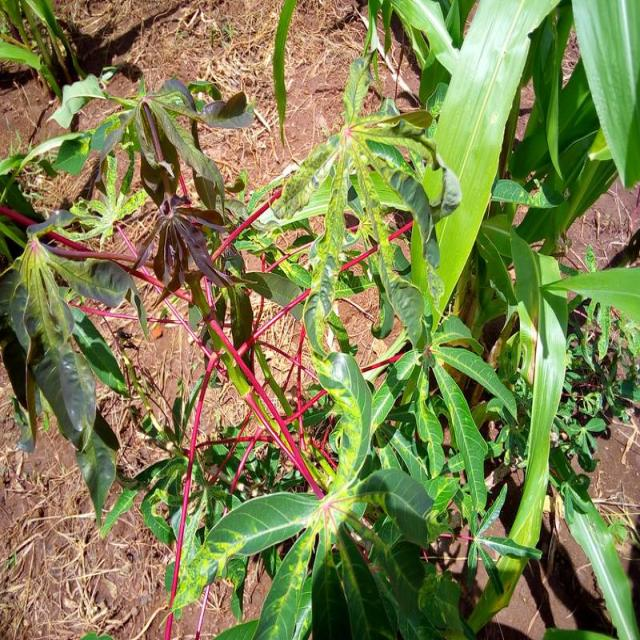cassava leaf: (1, 1, 638, 637), (400, 0, 562, 337)
